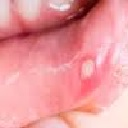Cold Sore: (81, 51, 102, 86)
